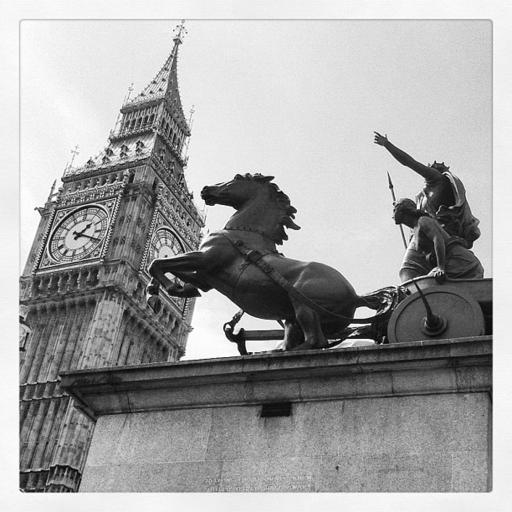horse: (149, 172, 409, 350)
